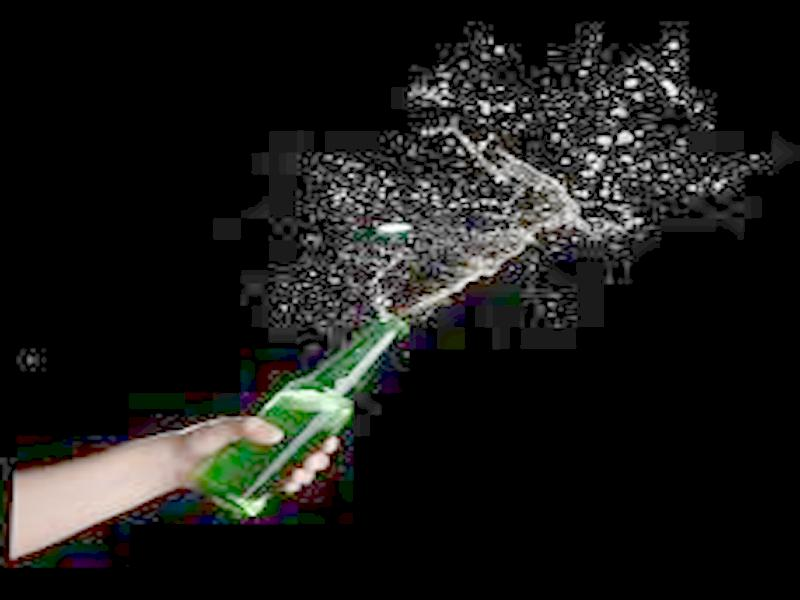Beer: (188, 314, 404, 521)
